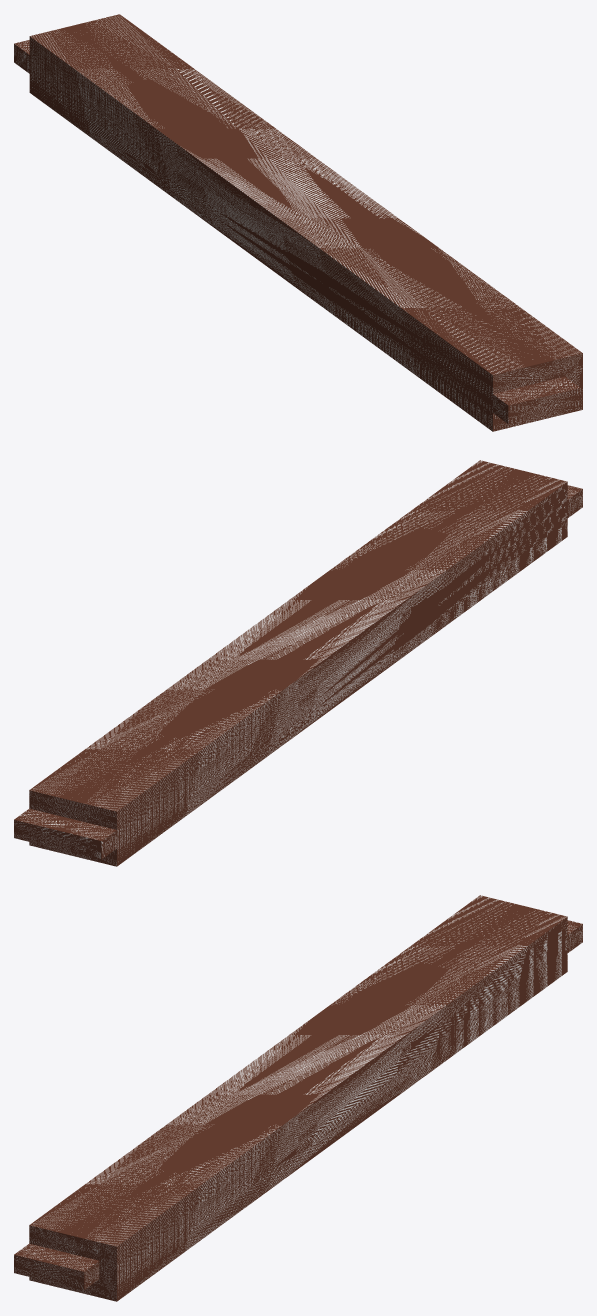
File: original-34.obj
3 views of the same model, one above another, from view 1: azimuth 30°, elevation 25°; view 2: azimuth 150°, elevation 25°; view 3: azimuth 330°, elevation 25° (orthographic). The views are drawn at different scales.
Visible parts, largest first — view 1: outter_drawer_rails2/outter_drawer_rails12/mesh68/mesh68-geometr; view 2: outter_drawer_rails2/outter_drawer_rails12/mesh68/mesh68-geometr; view 3: outter_drawer_rails2/outter_drawer_rails12/mesh68/mesh68-geometr.
Part boxes in pixels (left/top/right/bottom): outter_drawer_rails2/outter_drawer_rails12/mesh68/mesh68-geometr: left=14, top=14, right=582, bottom=431; outter_drawer_rails2/outter_drawer_rails12/mesh68/mesh68-geometr: left=14, top=460, right=582, bottom=866; outter_drawer_rails2/outter_drawer_rails12/mesh68/mesh68-geometr: left=14, top=895, right=582, bottom=1301.
Bounding box in the file's own units: 0.0381 × 0.0228 × 0.3616.
